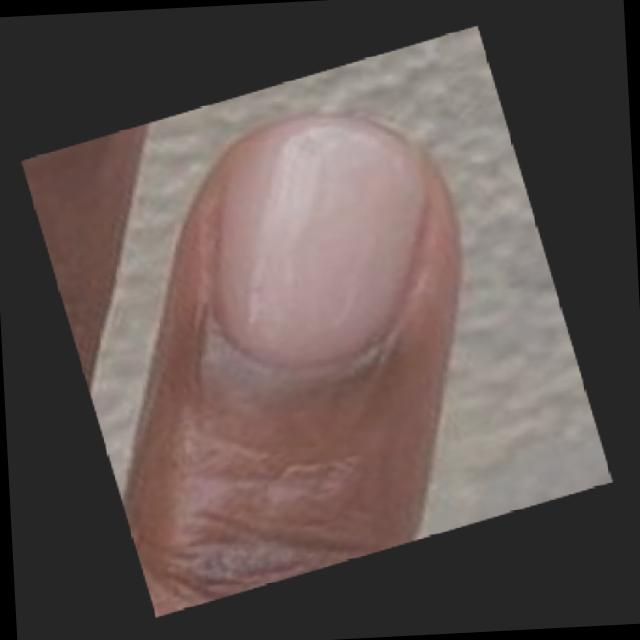Nail: (213, 117, 424, 365)
